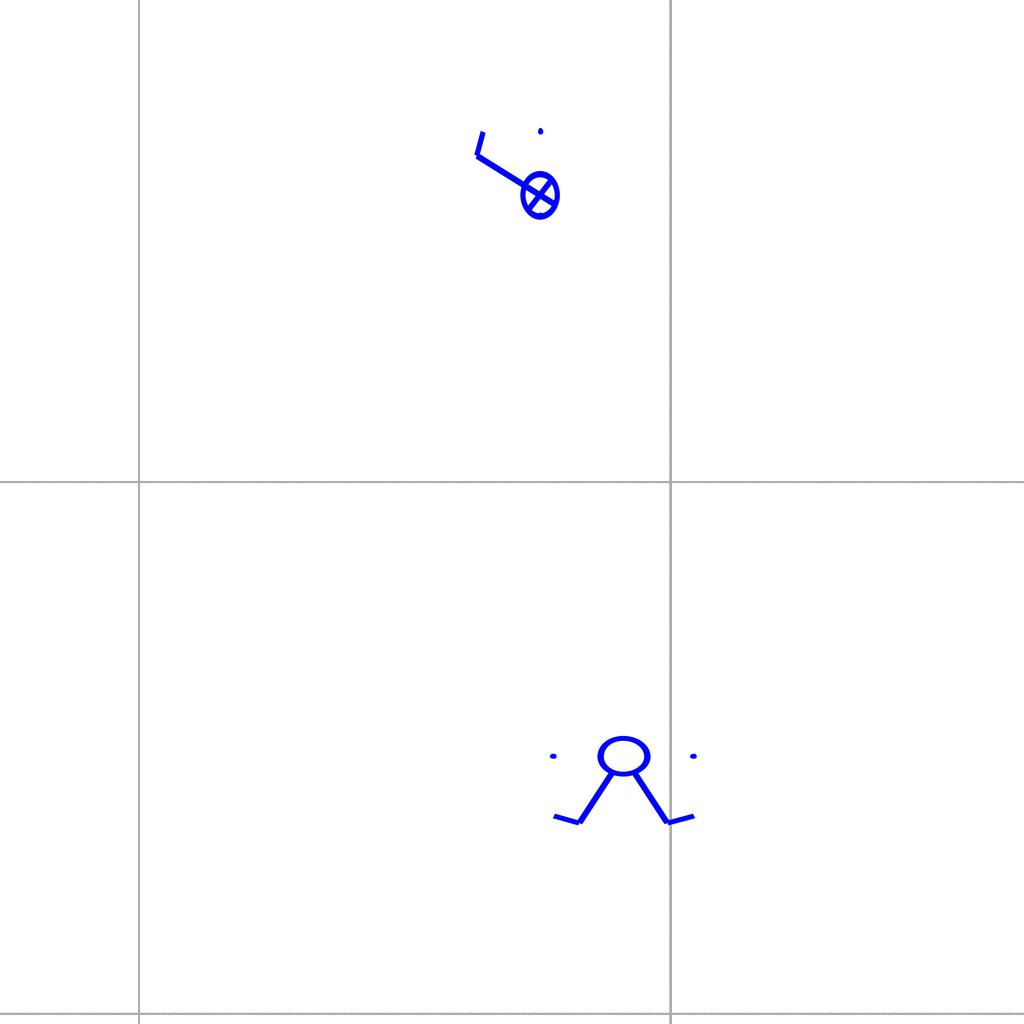Ausschalter_beleuchtet: (466, 122, 562, 234)
Serienschalter: (541, 734, 709, 830)
